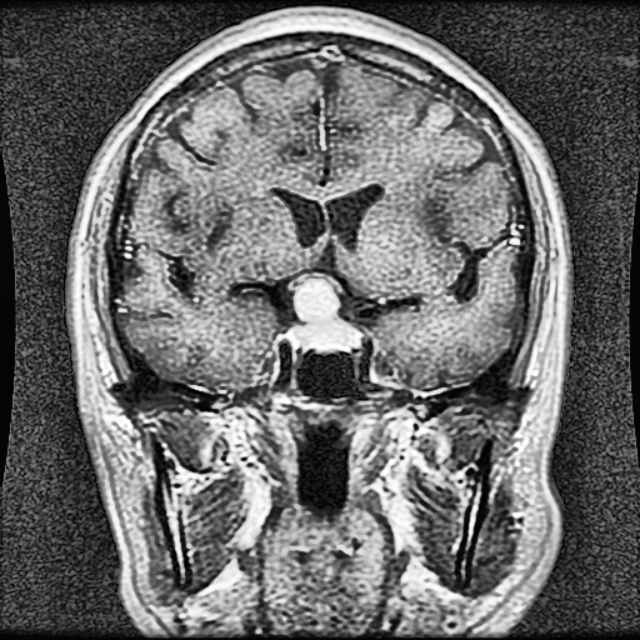Pituitary: (288, 277, 360, 352)
